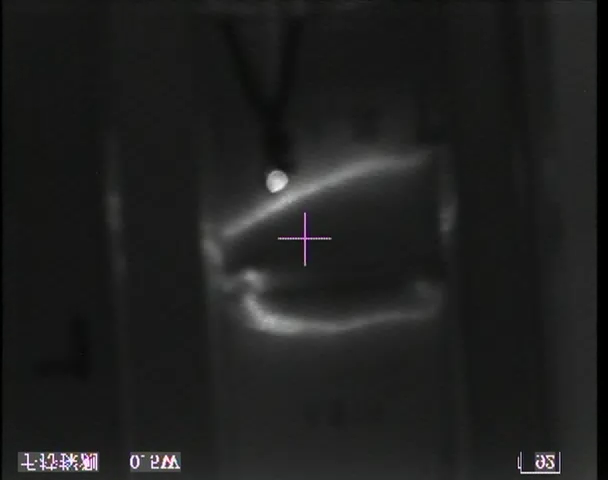my: (265, 168, 290, 193)
